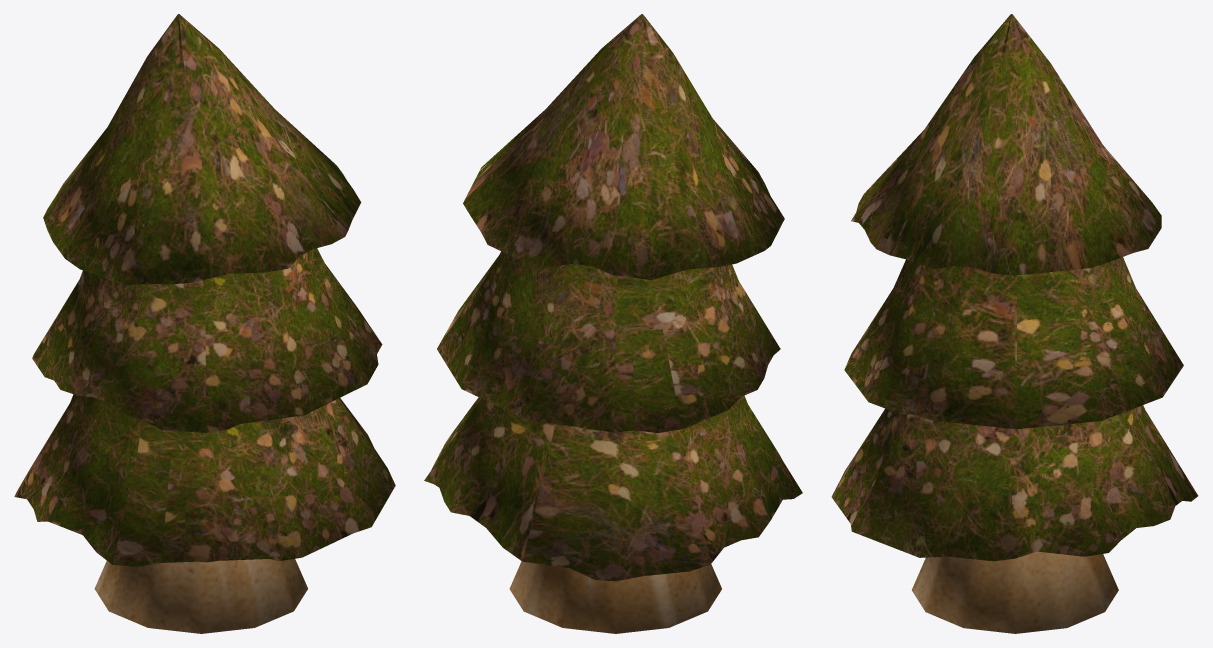
Rendered from pinetree.glb.
3 views of the same model, side by side, from view 1: azimuth 30°, elevation 25°; view 2: azimuth 150°, elevation 25°; view 3: azimuth 270°, elevation 25° (orthographic). The views are drawn at different scales.
Parts seen in each view (by area): view 1: pinetree_joined.002; view 2: pinetree_joined.002; view 3: pinetree_joined.002.
Boxes of the visible parts, x1,y1,x2,y2 form: pinetree_joined.002: [14, 14, 395, 633]; pinetree_joined.002: [424, 14, 802, 633]; pinetree_joined.002: [831, 14, 1198, 633].
Bounding box in the file's own units: 3.47 × 6.01 × 3.54.
Materials: 1 (1 with a texture image).
